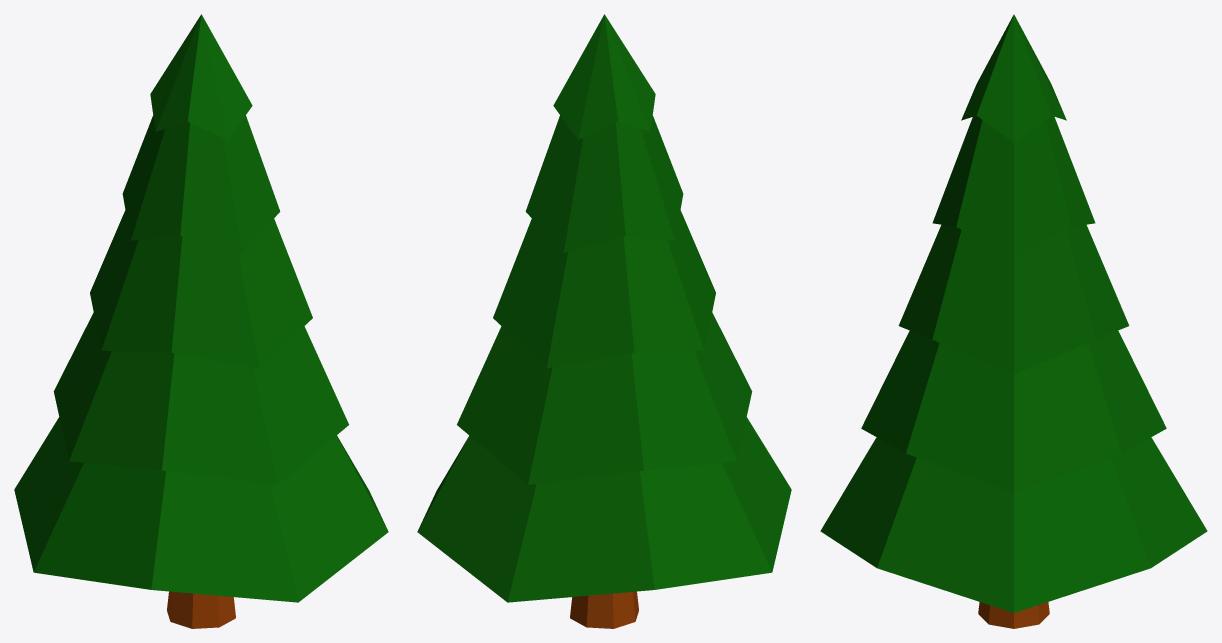
The model's file is pinetree_2.fbx.
3 renders of one model, left to right at view 1: azimuth 30°, elevation 25°; view 2: azimuth 150°, elevation 25°; view 3: azimuth 270°, elevation 25°, orthographic.
Visible parts, largest first — view 1: Cylinder; view 2: Cylinder; view 3: Cylinder.
Part boxes in pixels (x1,y1,x2,y2): Cylinder: (14, 14, 388, 628); Cylinder: (417, 14, 791, 628); Cylinder: (820, 14, 1207, 628).
Bounding box in the file's own units: 378 × 646 × 378.
